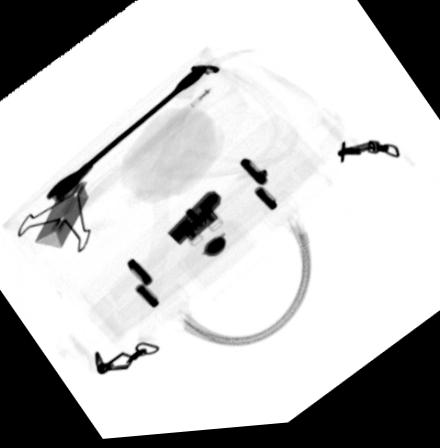Wrench: (44, 67, 209, 204)
